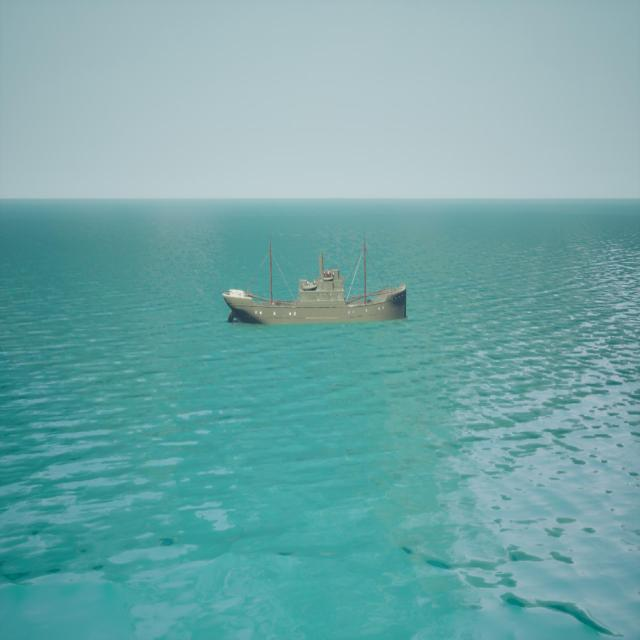fishing ship: (224, 235, 409, 328)
